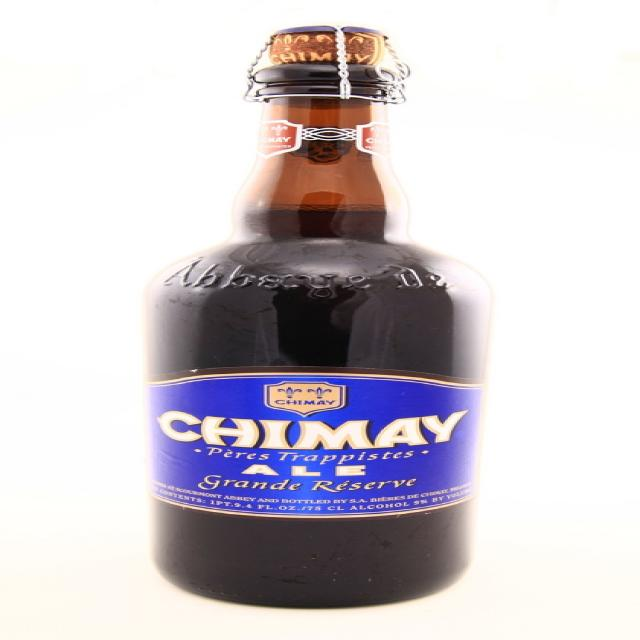chimay: (150, 375, 484, 519)
